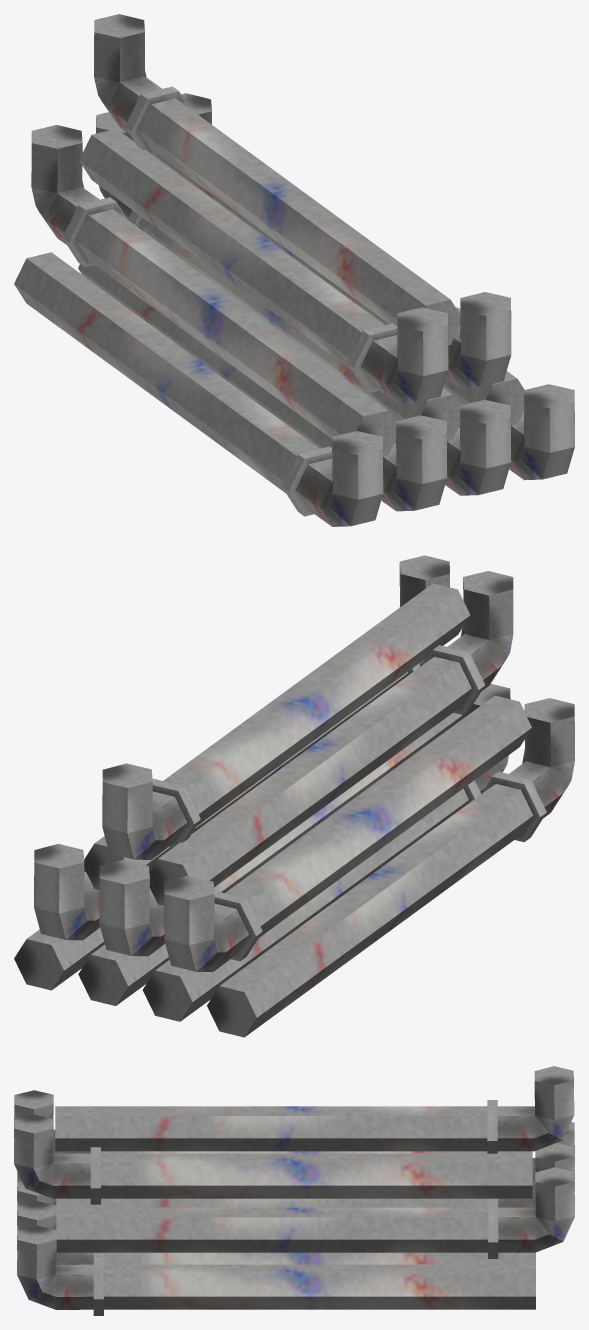
Rendered from stack_of_metal_pipes_no_rope.fbx.
3 views of the same model, one above another, from view 1: azimuth 30°, elevation 25°; view 2: azimuth 150°, elevation 25°; view 3: azimuth 270°, elevation 25° (orthographic). The views are drawn at different scales.
Parts seen in each view (by area): view 1: MetalPipeStack; view 2: MetalPipeStack; view 3: MetalPipeStack.
Part boxes in pixels (x1=…): MetalPipeStack: x1=14, y1=14, x2=574, y2=526; MetalPipeStack: x1=14, y1=555, x2=574, y2=1037; MetalPipeStack: x1=14, y1=1066, x2=574, y2=1315.
Bounding box in the file's own units: 0.1777 × 0.1659 × 0.4304.
